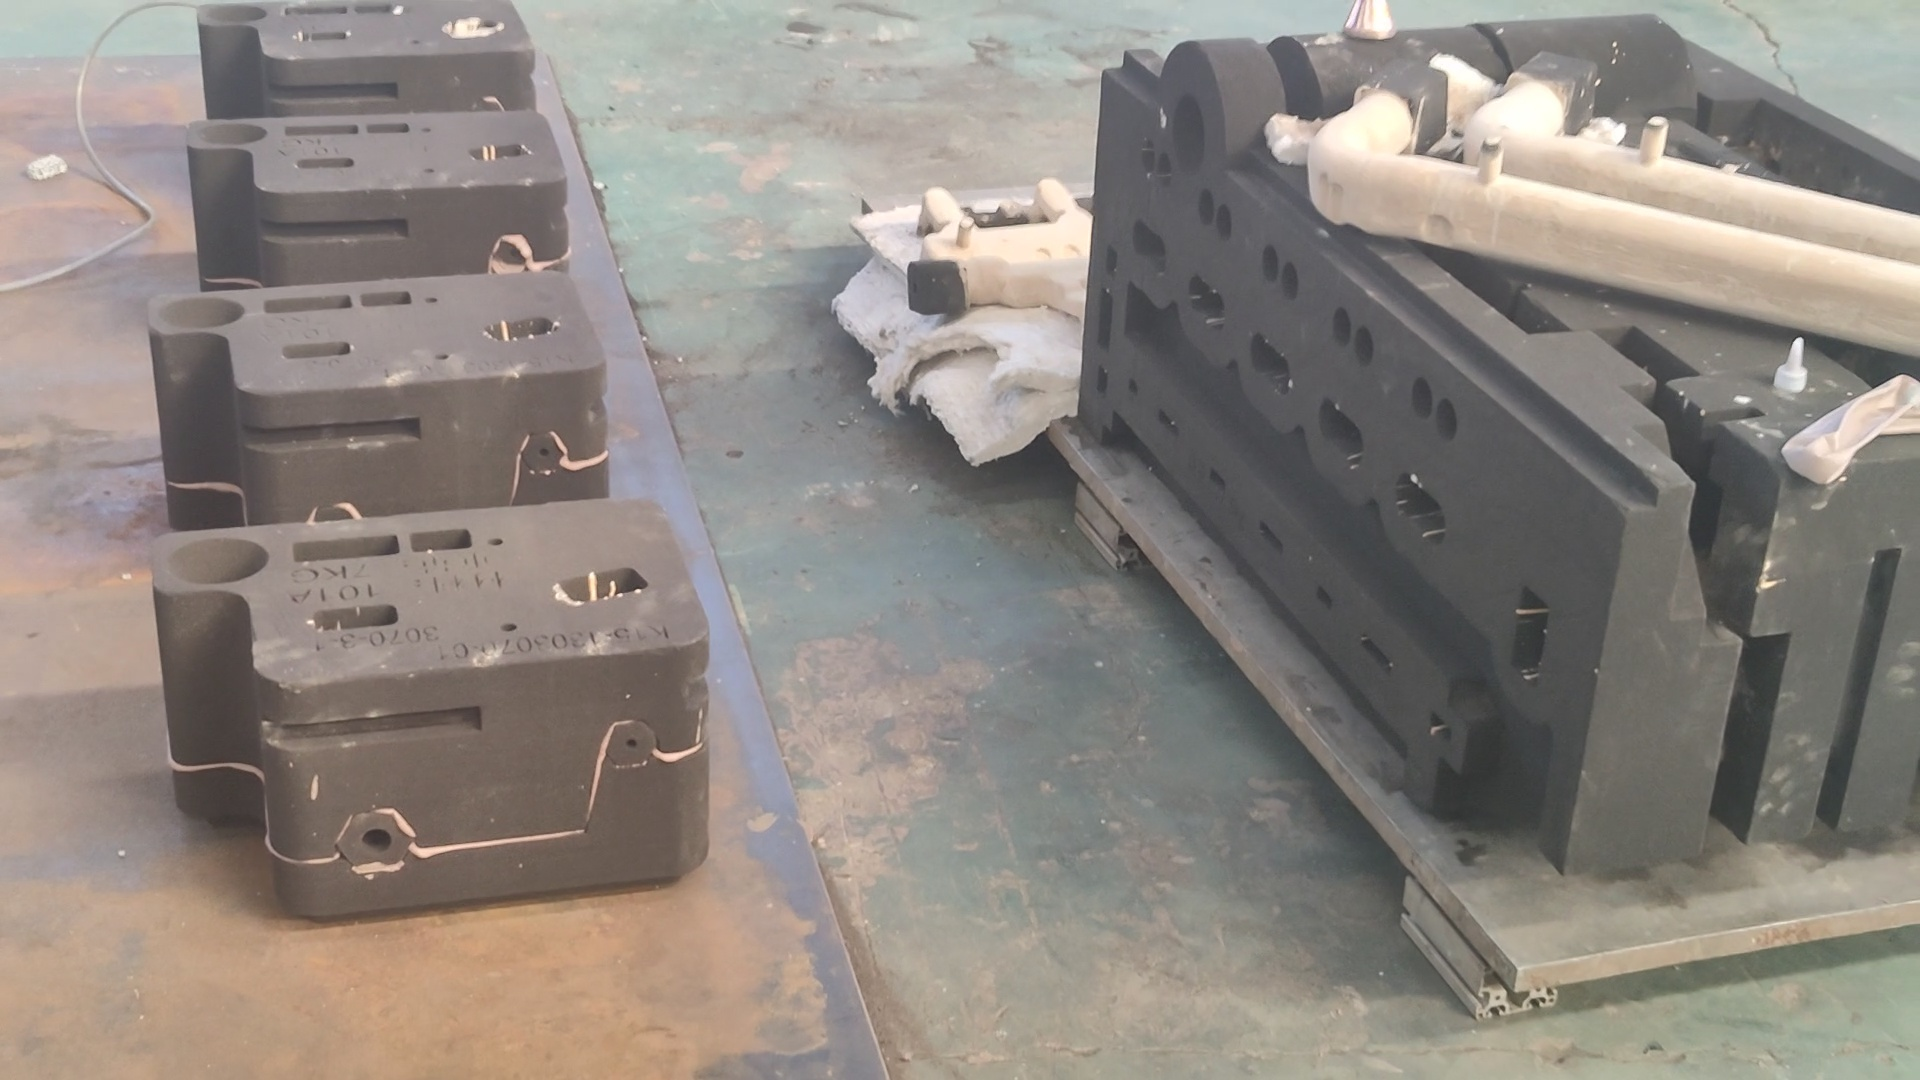pouring hole: (167, 539, 270, 584), (153, 297, 245, 328), (1171, 94, 1207, 174), (196, 121, 268, 145), (206, 3, 266, 22)
